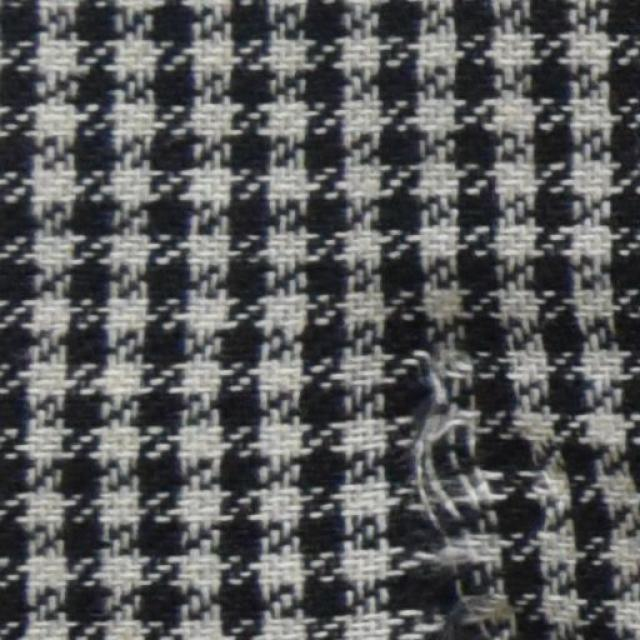Snag: (403, 340, 522, 636)
